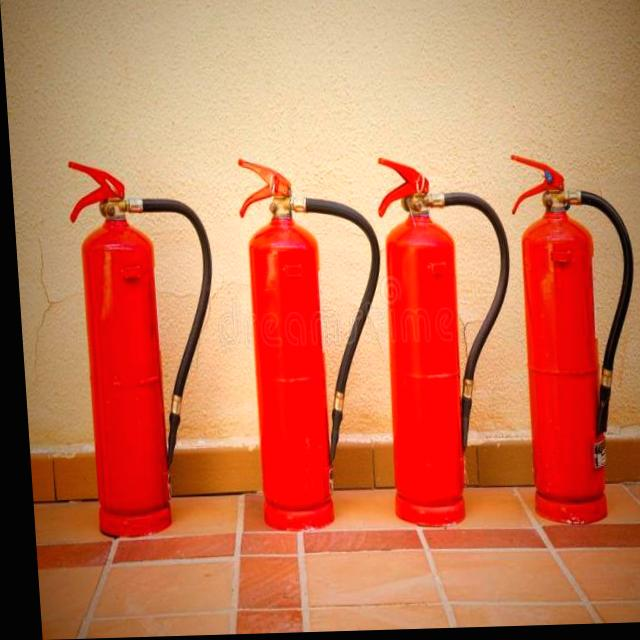FireExtinguisher: (60, 153, 227, 541), (228, 150, 392, 537), (367, 152, 519, 534), (500, 150, 640, 536)
